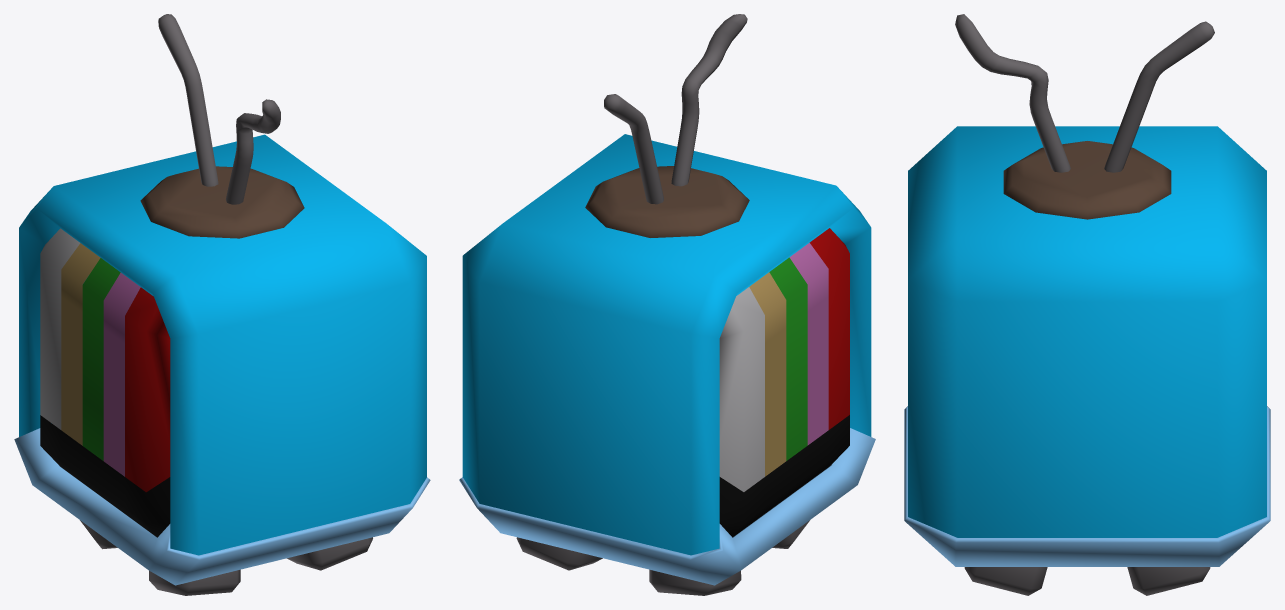
File: TVLOW.fbx
The picture shows the model from 3 angles, left to right: view 1: azimuth 30°, elevation 25°; view 2: azimuth 150°, elevation 25°; view 3: azimuth 270°, elevation 25°; orthographic projection. The views are drawn at different scales.
Visible parts, largest first — view 1: TV; view 2: TV; view 3: TV.
Part boxes in pixels (x1,y1,x2,y2): TV: (14, 14, 430, 595); TV: (459, 14, 875, 595); TV: (904, 14, 1270, 595).
Bounding box in the file's own units: 87.09 × 150 × 93.01.
